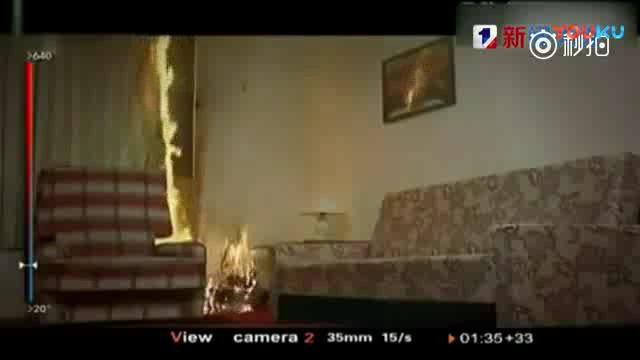fire: (151, 38, 198, 244), (211, 227, 261, 312)
